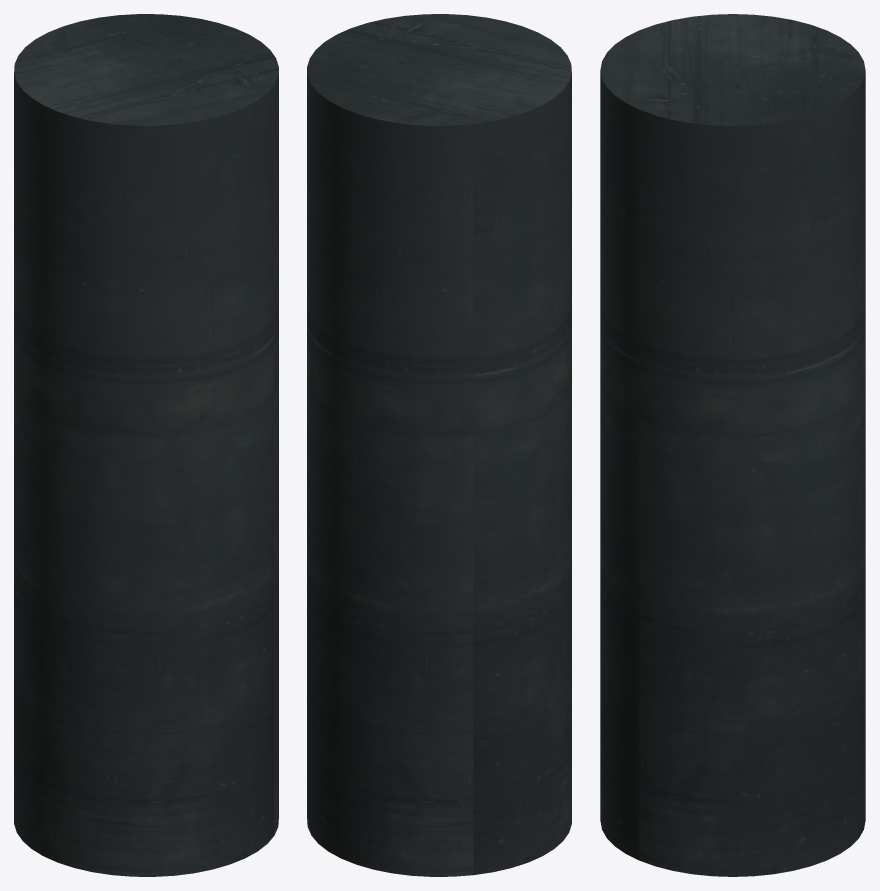
Rendered from containment_ram.glb.
3 renders of one model, left to right at view 1: azimuth 30°, elevation 25°; view 2: azimuth 150°, elevation 25°; view 3: azimuth 270°, elevation 25°, orthographic.
Visible parts, largest first — view 1: containment_ram / containment_worn_steel; view 2: containment_ram / containment_worn_steel; view 3: containment_ram / containment_worn_steel.
Boxes of the visible parts, left/top/right/bottom form: containment_ram / containment_worn_steel: left=14, top=14, right=278, bottom=876; containment_ram / containment_worn_steel: left=307, top=14, right=571, bottom=876; containment_ram / containment_worn_steel: left=600, top=14, right=865, bottom=876.
Size of the model in its own units: 0.32 by 1 by 0.32.
1 material, 1 textured.
